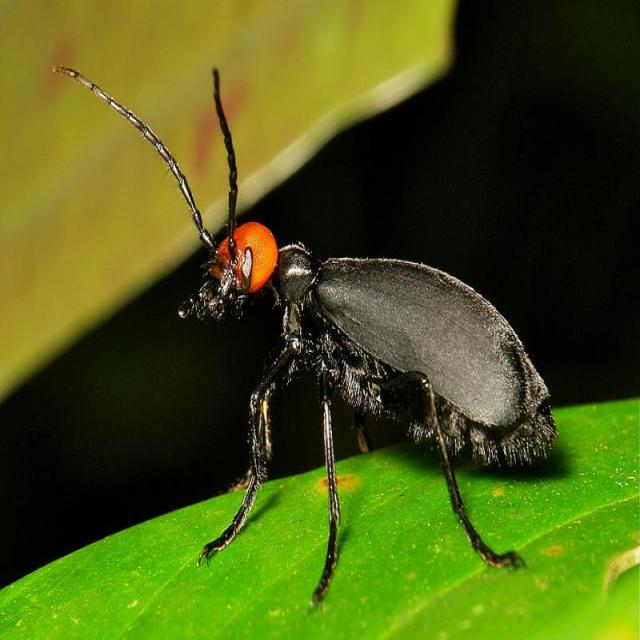BlisterBeetle-Adult-: (80, 67, 564, 590)
